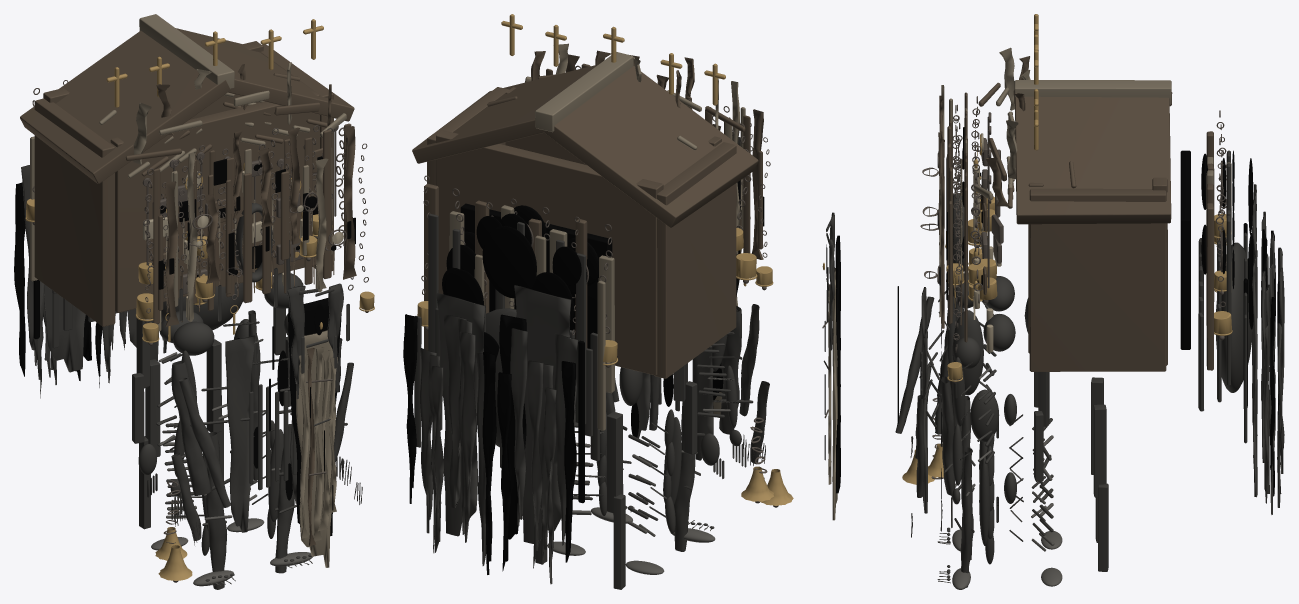
Rendered from penance_carrier_end_goal_v13_hood_door_integration.glb.
3 views of the same model, side by side, from view 1: azimuth 30°, elevation 25°; view 2: azimuth 150°, elevation 25°; view 3: azimuth 270°, elevation 25° (orthographic). The views are drawn at different scales.
Parts seen in each view (by area): view 1: PC_V4_shrine_front_rotten_wall, PC_V4_shrine_left_side_wall, PC_V4_roof_left_steep_slab, PC_V11_left_torn_front_cloak_sheet, PC_V4_roof_right_steep_slab, PC_V13_long_target_door_mask_unbroken_slab, PC_V4_roof_ridge_heavy_rot, PC_V11_5_left_arm_pinched_wrapped_sculpt, PC_V11_back_rotten_skin_sheet_left, PC_V13_deep_black_cloth_inside_hood_and_door, PC_V11_6_back_thin_torn_rag_layer_00, PC_V11_7_left_arm_heavy_bowed_sleeve_end_goal (+47 smaller); view 2: PC_V4_shrine_rear_rotten_wall, PC_V4_roof_left_steep_slab, PC_V4_shrine_left_side_wall, PC_V4_roof_right_steep_slab, PC_V11_back_rotten_skin_sheet_left, PC_V11_back_rotten_skin_sheet_right, PC_V11_back_deep_rotted_hole_01, PC_V4_roof_ridge_heavy_rot, PC_V11_6_back_thin_torn_rag_layer_02, PC_V11_7_back_rotten_interior_tongue_02, PC_V4_back_black_rotten_hollow, PC_V11_5_back_layered_rotten_sheet_04 (+52 smaller); view 3: PC_V4_shrine_right_side_wall, PC_V4_roof_right_steep_slab, PC_V4_roof_ridge_heavy_rot, PC_V11_back_swollen_rotten_under_mass, PC_V4_back_black_rotten_hollow, PC_V5_back_rotten_vertical_plank_07, PC_V11_back_rotten_skin_sheet_right, PC_V11_5_right_leg_compressed_wrapped_sculpt, PC_V11_5_right_arm_pinched_wrapped_sculpt, PC_V13_deep_black_cloth_inside_hood_and_door, PC_V6_right_wrapped_thigh, PC_V11_sunken_chest_under_mask (+20 smaller).
Part boxes in pixels (<box>): PC_V4_shrine_front_rotten_wall: <box>110,90,320,312</box>; PC_V4_shrine_left_side_wall: <box>34,98,115,326</box>; PC_V4_roof_left_steep_slab: <box>20,30,230,183</box>; PC_V11_left_torn_front_cloak_sheet: <box>225,335,255,532</box>; PC_V4_roof_right_steep_slab: <box>175,28,354,121</box>; PC_V13_long_target_door_mask_unbroken_slab: <box>296,330,335,567</box>; PC_V4_roof_ridge_heavy_rot: <box>139,14,234,88</box>; PC_V11_5_left_arm_pinched_wrapped_sculpt: <box>171,360,211,495</box>; PC_V11_back_rotten_skin_sheet_left: <box>43,284,85,372</box>; PC_V13_deep_black_cloth_inside_hood_and_door: <box>288,298,341,536</box>; PC_V11_6_back_thin_torn_rag_layer_00: <box>14,182,25,376</box>; PC_V11_7_left_arm_heavy_bowed_sleeve_end_goal: <box>178,378,231,507</box>; PC_V4_shrine_rear_rotten_wall: <box>436,130,663,375</box>; PC_V4_roof_left_steep_slab: <box>544,66,758,227</box>; PC_V4_shrine_left_side_wall: <box>654,142,736,378</box>; PC_V4_roof_right_steep_slab: <box>412,65,595,163</box>; PC_V11_back_rotten_skin_sheet_left: <box>514,285,571,543</box>; PC_V11_back_rotten_skin_sheet_right: <box>436,293,485,536</box>; PC_V11_back_deep_rotted_hole_01: <box>482,226,536,298</box>; PC_V4_roof_ridge_heavy_rot: <box>535,52,633,132</box>; PC_V11_6_back_thin_torn_rag_layer_02: <box>510,328,527,525</box>; PC_V11_7_back_rotten_interior_tongue_02: <box>459,331,476,542</box>; PC_V4_back_black_rotten_hollow: <box>460,203,612,348</box>; PC_V11_5_back_layered_rotten_sheet_04: <box>444,314,466,507</box>; PC_V4_shrine_right_side_wall: <box>1029,188,1166,371</box>; PC_V4_roof_right_steep_slab: <box>1015,96,1171,224</box>; PC_V4_roof_ridge_heavy_rot: <box>1014,80,1171,104</box>; PC_V11_back_swollen_rotten_under_mass: <box>1216,242,1252,392</box>; PC_V4_back_black_rotten_hollow: <box>1180,150,1190,349</box>; PC_V5_back_rotten_vertical_plank_07: <box>1206,203,1213,370</box>; PC_V11_back_rotten_skin_sheet_right: <box>1252,250,1257,497</box>; PC_V11_5_right_leg_compressed_wrapped_sculpt: <box>960,447,972,587</box>; PC_V11_5_right_arm_pinched_wrapped_sculpt: <box>940,376,954,495</box>; PC_V13_deep_black_cloth_inside_hood_and_door: <box>835,235,840,493</box>; PC_V6_right_wrapped_thigh: <box>1093,404,1106,497</box>; PC_V11_sunken_chest_under_mask: <box>952,310,983,395</box>.
Bounding box in the file's own units: 2.34 × 4.48 × 3.59.
